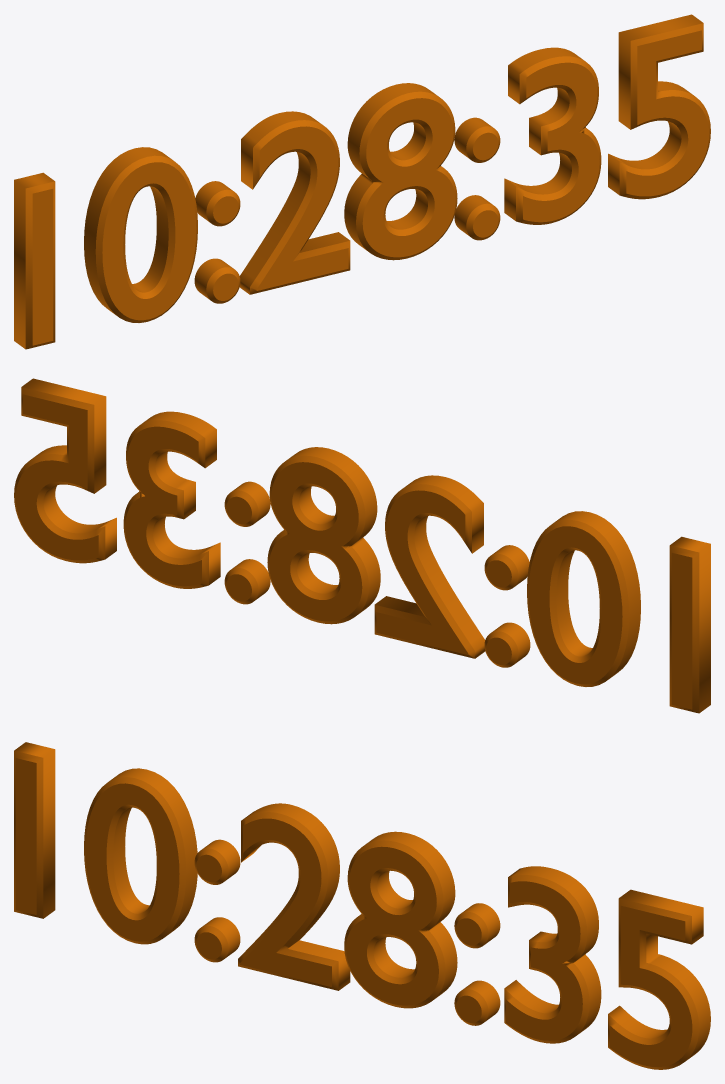
Rendered from time.obj.
The picture shows the model from 3 angles, top to bottom: view 1: azimuth 30°, elevation 25°; view 2: azimuth 150°, elevation 25°; view 3: azimuth 330°, elevation 25°; orthographic projection.
Visible parts, largest first — view 1: テキスト; view 2: テキスト; view 3: テキスト.
Boxes of the visible parts, bbox=[...] form: テキスト: bbox=[14, 14, 710, 349]; テキスト: bbox=[14, 378, 710, 713]; テキスト: bbox=[14, 742, 710, 1069].
Bounding box in the file's own units: 64.28 × 14.8 × 2.72.
